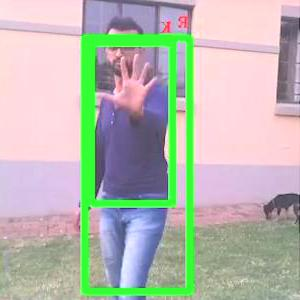follow_hand: (95, 47, 165, 116)
